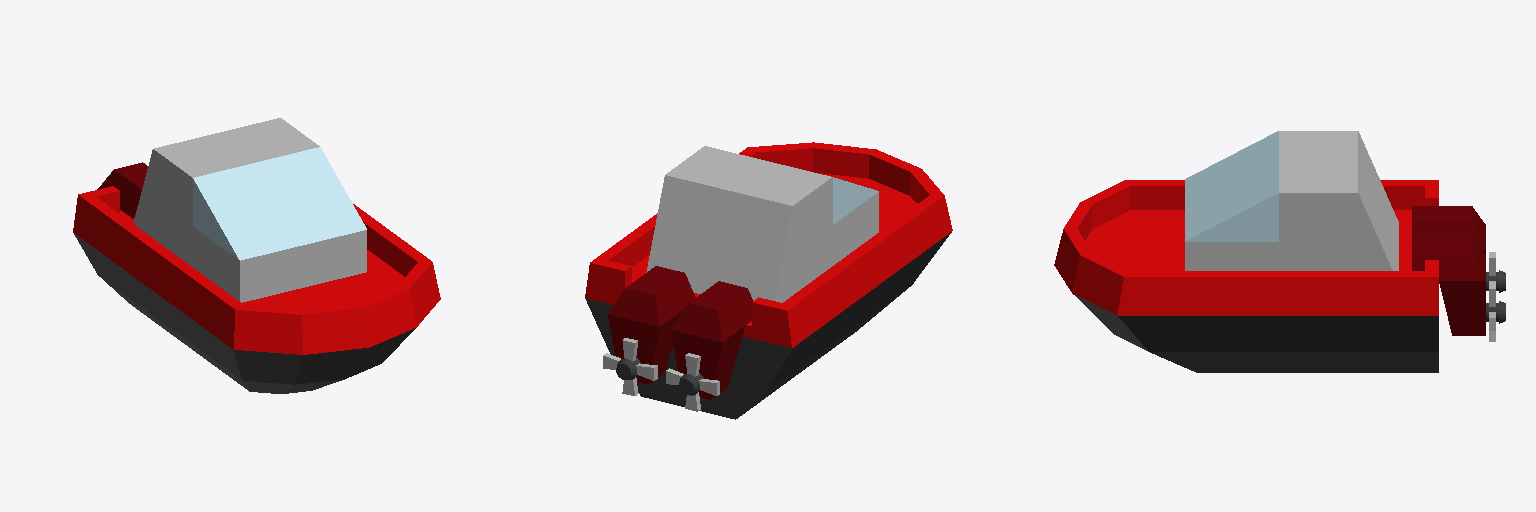
File: boat1.obj
3 renders of one model, left to right at view 1: azimuth 30°, elevation 25°; view 2: azimuth 150°, elevation 25°; view 3: azimuth 270°, elevation 25°, orthographic.
Parts seen in each view (by area): view 1: watercraftPack_009; view 2: watercraftPack_009; view 3: watercraftPack_009.
Part boxes in pixels (x1,y1,x2,y2): watercraftPack_009: (73,118,440,393); watercraftPack_009: (585,142,952,419); watercraftPack_009: (1054,131,1505,372).
Bounding box in the file's own units: 1.78 × 1.55 × 3.37.